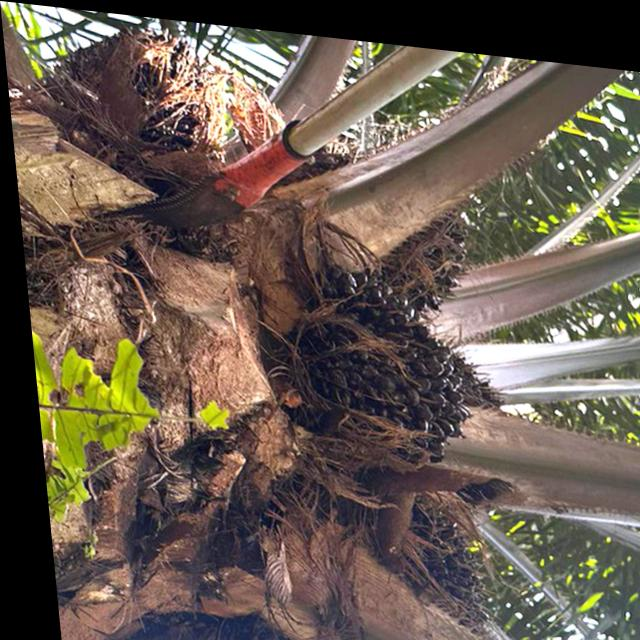unripe: (269, 247, 474, 462)
